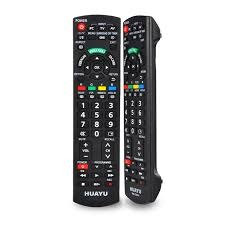remote control: (69, 8, 120, 210), (121, 9, 166, 209)
